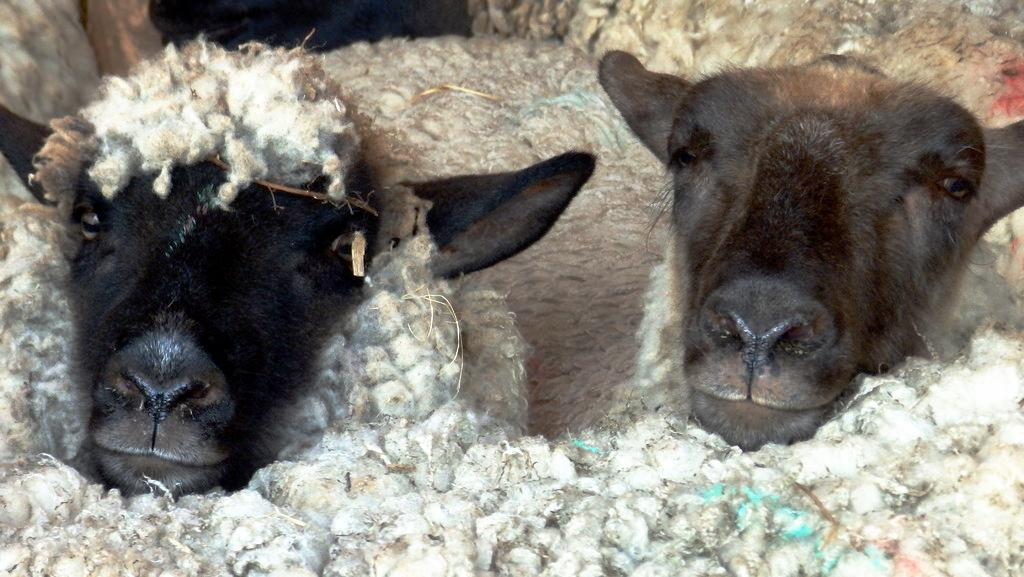Sheep: (0, 36, 603, 576), (468, 0, 1024, 453)
